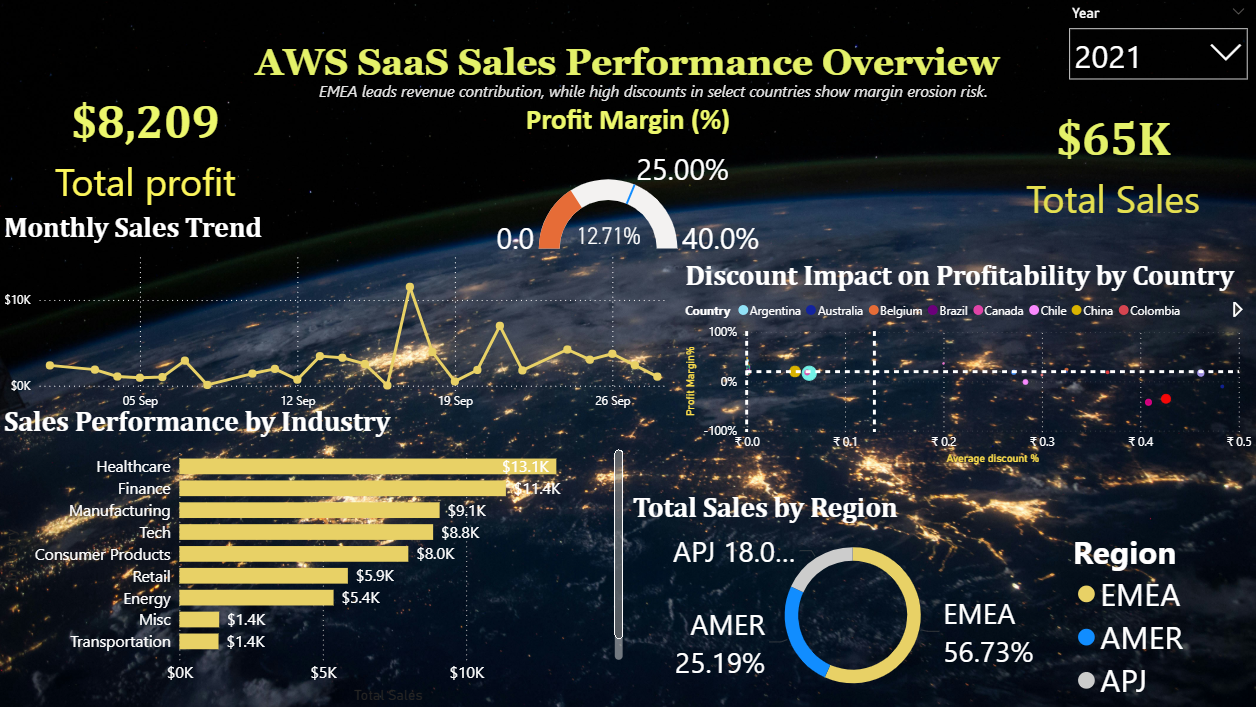

The page's visual inventory and layout, read from the dashboard file:
{"tool":"powerbi","page":{"name":"Executive Summary","canvas":[1280,720],"ordinal":0},"visuals":[{"type":"lineChart","title":"Monthly Sales Trend","fields":{"Y":["SaaS-Sales.Total Sales"],"Category":["SaaS-Sales.Order Date.Variation.Date Hierarchy.Year","SaaS-Sales.Order Date.Variation.Date Hierarchy.Quarter","SaaS-Sales.Order Date.Variation.Date Hierarchy.Month","SaaS-Sales.Order Date.Variation.Date Hierarchy.Day"]},"box":[0,215,693.3,211.7],"z":0},{"type":"slicer","fields":{"Values":["SaaS-Sales.Order Date.Variation.Date Hierarchy.Year"]},"box":[1078.3,0,201.7,95],"z":2},{"type":"card","fields":{"Values":["SaaS-Sales.Total prifit"]},"box":[0,42.6,298.5,205.9],"z":3},{"type":"donutChart","fields":{"Category":["SaaS-Sales.Region"],"Y":["SaaS-Sales.Total Sales"]},"box":[640,500,593.3,220],"z":4},{"type":"gauge","title":"Profit Margin (%)","fields":{"Y":["SaaS-Sales.Profit Margin%"],"MinValue":["SaaS-Sales.Min Profit Margin"],"MaxValue":["SaaS-Sales.Max Profit Margin"],"TargetValue":["SaaS-Sales.Target Profit Margin"]},"box":[435,103.3,410,160],"z":5},{"type":"card","fields":{"Values":["SaaS-Sales.Total Sales"]},"box":[988.2,95.6,291.2,135.3],"z":6},{"type":"clusteredBarChart","title":"Sales Performance by Industry","fields":{"Category":["SaaS-Sales.Industry"],"Y":["SaaS-Sales.Total Sales"]},"box":[0,411.7,640,308.3],"z":7},{"type":"textbox","box":[185,0,910,126.7],"z":8},{"type":"scatterChart","title":"Discount Impact on Profitability by Country","fields":{"X":["SaaS-Sales.Average discount %"],"Y":["SaaS-Sales.Profit Margin%"],"Size":["SaaS-Sales.Total Sales"],"Series":["SaaS-Sales.Country"]},"box":[693.3,263.3,586.7,215],"z":9},{"type":"textbox","box":[320,60,726.7,70],"z":11}]}

Visuals, with their boxes in screenshot pixels (x1, y1, x2, y2), scaled from the page's 1280x720 canvas onto the 1256x707 screenshot:
"Monthly Sales Trend" lineChart: x1=0 y1=211 x2=680 y2=419
slicer - SaaS-Sales.Order Date.Variation.Date Hierarchy.Year: x1=1058 y1=0 x2=1255 y2=93
card - SaaS-Sales.Total prifit: x1=0 y1=42 x2=293 y2=244
donutChart - SaaS-Sales.Region x SaaS-Sales.Total Sales: x1=628 y1=491 x2=1210 y2=706
"Profit Margin (%)" gauge: x1=427 y1=101 x2=829 y2=259
card - SaaS-Sales.Total Sales: x1=970 y1=94 x2=1255 y2=227
"Sales Performance by Industry" clusteredBarChart: x1=0 y1=404 x2=628 y2=706
textbox: x1=182 y1=0 x2=1074 y2=124
"Discount Impact on Profitability by Country" scatterChart: x1=680 y1=259 x2=1255 y2=470
textbox: x1=314 y1=59 x2=1027 y2=128
